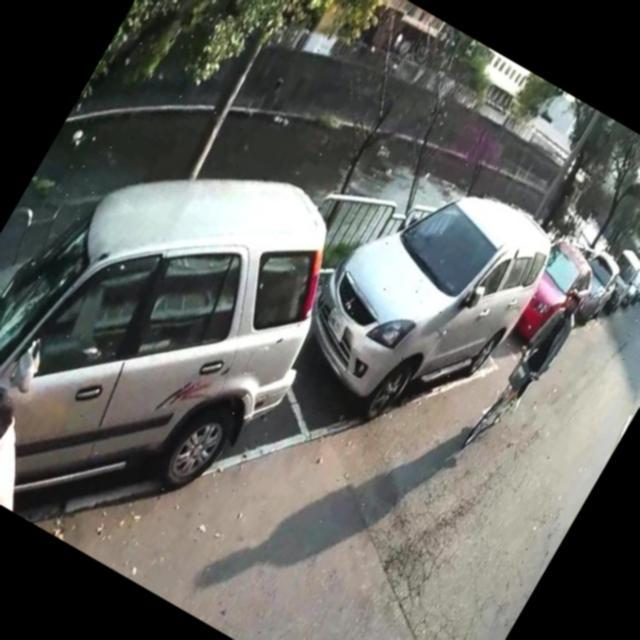person: (474, 274, 594, 436), (0, 358, 84, 518)
